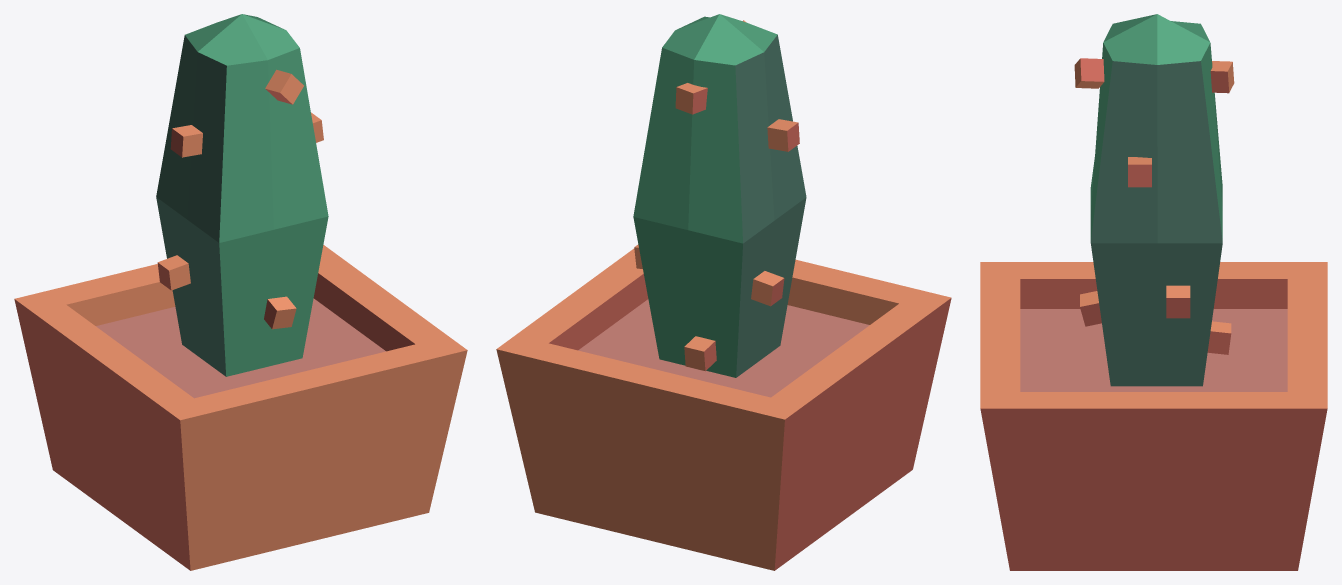
File: Plant 03.fbx
The picture shows the model from 3 angles, left to right: view 1: azimuth 30°, elevation 25°; view 2: azimuth 150°, elevation 25°; view 3: azimuth 270°, elevation 25°; orthographic projection. The views are drawn at different scales.
Visible parts, largest first — view 1: Plant 03; view 2: Plant 03; view 3: Plant 03.
Part boxes in pixels (left/top/right/bottom): Plant 03: left=14, top=14, right=467, bottom=570; Plant 03: left=496, top=14, right=951, bottom=570; Plant 03: left=980, top=14, right=1327, bottom=570.
Size of the model in its own units: 34.51 by 54.57 by 34.51.
